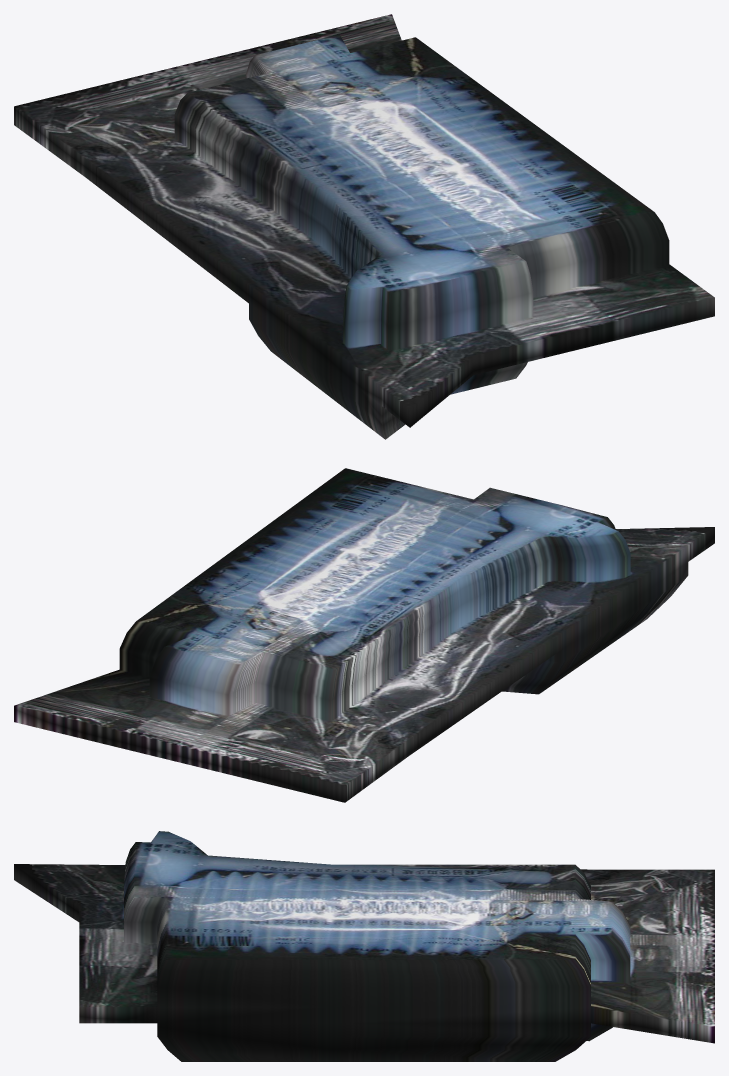
3 renders of one model, top to bottom at view 1: azimuth 30°, elevation 25°; view 2: azimuth 150°, elevation 25°; view 3: azimuth 270°, elevation 25°, orthographic. The views are drawn at different scales.
Parts seen in each view (by area): view 1: Cube; view 2: Cube; view 3: Cube.
Part boxes in pixels (bbox=[...]): Cube: bbox=[14, 14, 714, 439]; Cube: bbox=[14, 468, 714, 802]; Cube: bbox=[14, 831, 714, 1061].
Size of the model in its own units: 373 by 114 by 676.
1 material, 1 textured.
